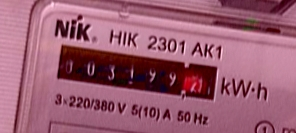0: (62, 55, 75, 75), (85, 57, 96, 77)
1: (127, 60, 136, 79)
3: (106, 62, 115, 81)
6: (188, 79, 199, 96)
9: (166, 69, 177, 88), (146, 65, 156, 83)
screen: (50, 40, 225, 108)
